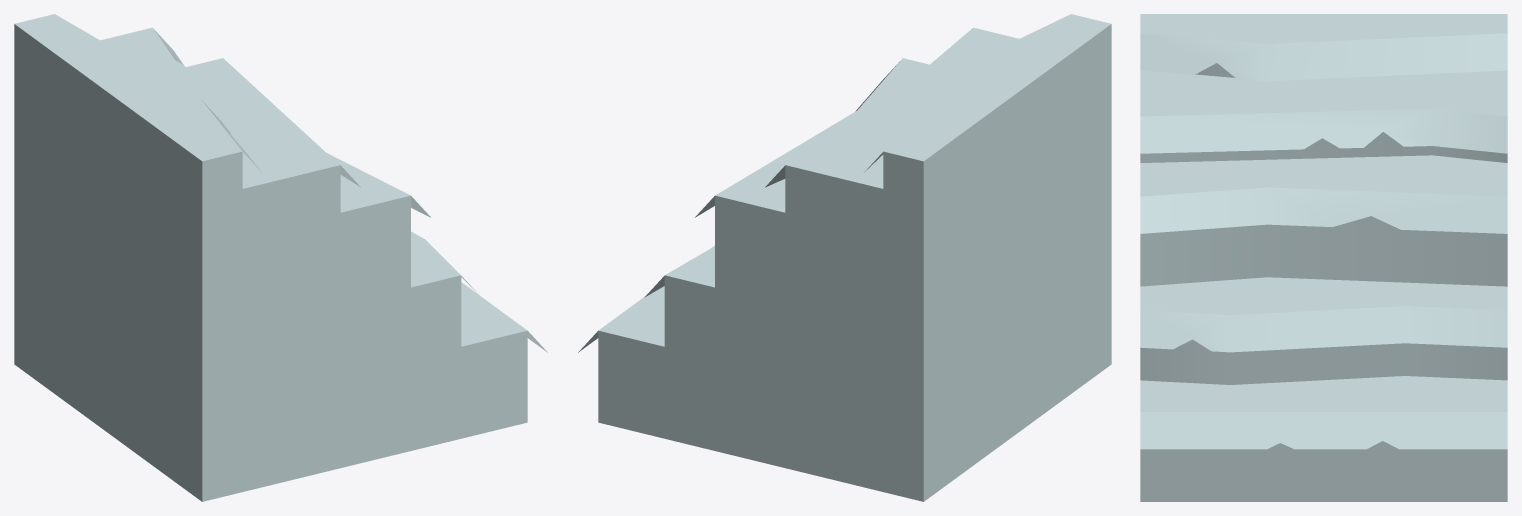
Rendered from cliffGrey_steps.fbx.
The picture shows the model from 3 angles, left to right: view 1: azimuth 30°, elevation 25°; view 2: azimuth 150°, elevation 25°; view 3: azimuth 270°, elevation 25°; orthographic projection. The views are drawn at different scales.
Parts seen in each view (by area): view 1: cliffGrey_steps; view 2: cliffGrey_steps; view 3: cliffGrey_steps.
Boxes of the visible parts, left/top/right/bottom form: cliffGrey_steps: left=14, top=14, right=547, bottom=501; cliffGrey_steps: left=578, top=14, right=1111, bottom=501; cliffGrey_steps: left=1140, top=14, right=1507, bottom=501.
Bounding box in the file's own units: 319 × 300 × 300.
